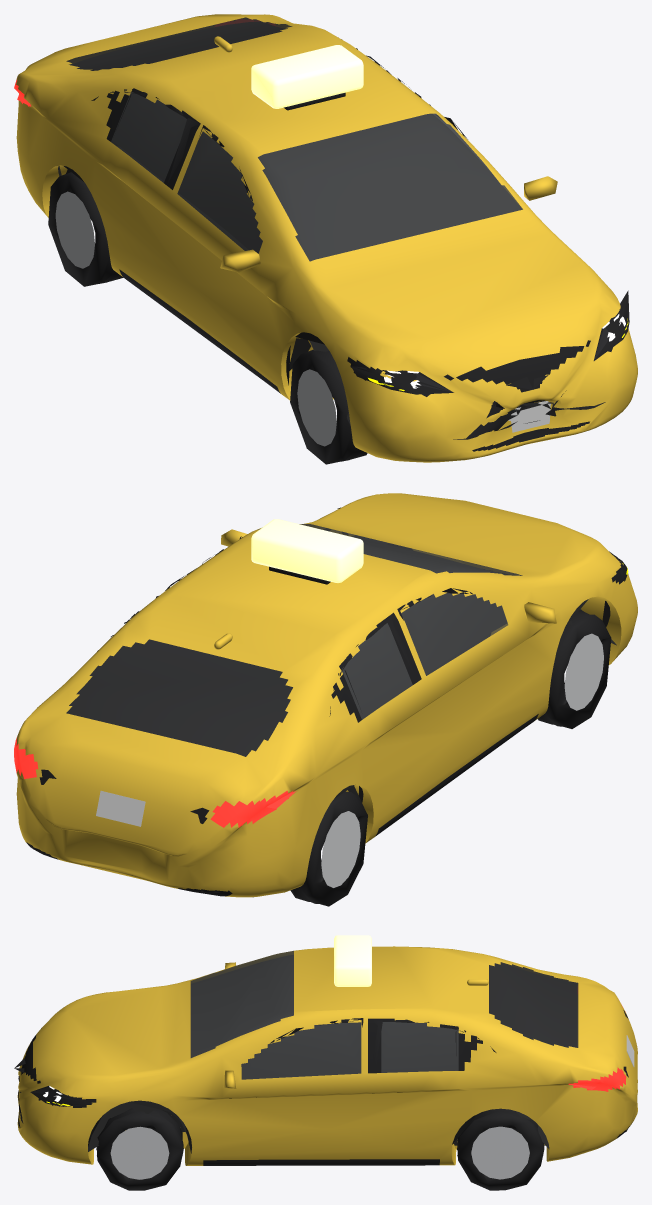
File: taxi-lod2.glb
3 views of the same model, one above another, from view 1: azimuth 30°, elevation 25°; view 2: azimuth 150°, elevation 25°; view 3: azimuth 270°, elevation 25° (orthographic). The views are drawn at different scales.
Visible parts, largest first — view 1: Body, Body_Lining, TaxiSign, Body_Trim, Wheel_FR_Tyre, Wheel_RR_Tyre, Wheel_FR_Face, Wheel_RR_Face, PlateFront, Arch_F_R_Liner, Mirror_R_Housing; view 2: Body, Body_Lining, TaxiSign, Wheel_FR_Tyre, Wheel_RR_Tyre, Wheel_RR_Face, Wheel_FR_Face, PlateRear, Body_Trim; view 3: Body, Body_Lining, Wheel_FL_Tyre, Wheel_RL_Tyre, Wheel_FL_Face, Wheel_RL_Face, TaxiSign, Body_Trim, Arch_F_L_Liner.
Boxes of the visible parts, <box> form: Body: <box>14,14,637,462</box>; Body_Lining: <box>78,22,521,260</box>; TaxiSign: <box>251,45,363,108</box>; Body_Trim: <box>17,39,629,439</box>; Wheel_FR_Tyre: <box>290,349,367,464</box>; Wheel_RR_Tyre: <box>48,172,123,286</box>; Wheel_FR_Face: <box>297,369,336,446</box>; Wheel_RR_Face: <box>55,191,94,268</box>; PlateFront: <box>508,401,550,432</box>; Arch_F_R_Liner: <box>286,332,350,425</box>; Mirror_R_Housing: <box>220,249,260,272</box>; Body: <box>14,493,637,897</box>; Body_Lining: <box>67,540,506,755</box>; TaxiSign: <box>251,519,363,582</box>; Wheel_FR_Tyre: <box>538,610,611,728</box>; Wheel_RR_Tyre: <box>290,791,367,906</box>; Wheel_RR_Face: <box>321,811,360,887</box>; Wheel_FR_Face: <box>564,633,603,710</box>; PlateRear: <box>96,791,145,826</box>; Body_Trim: <box>30,507,628,893</box>; Body: <box>17,946,637,1165</box>; Body_Lining: <box>191,955,576,1078</box>; Wheel_FL_Tyre: <box>96,1108,183,1190</box>; Wheel_RL_Tyre: <box>457,1108,544,1190</box>; Wheel_FL_Face: <box>110,1126,169,1179</box>; Wheel_RL_Face: <box>471,1126,529,1179</box>; TaxiSign: <box>334,935,371,986</box>; Body_Trim: <box>14,1018,628,1133</box>; Arch_F_L_Liner: <box>88,1100,191,1153</box>.
Bounding box in the file's own units: 2.29 × 1.7 × 4.95.
